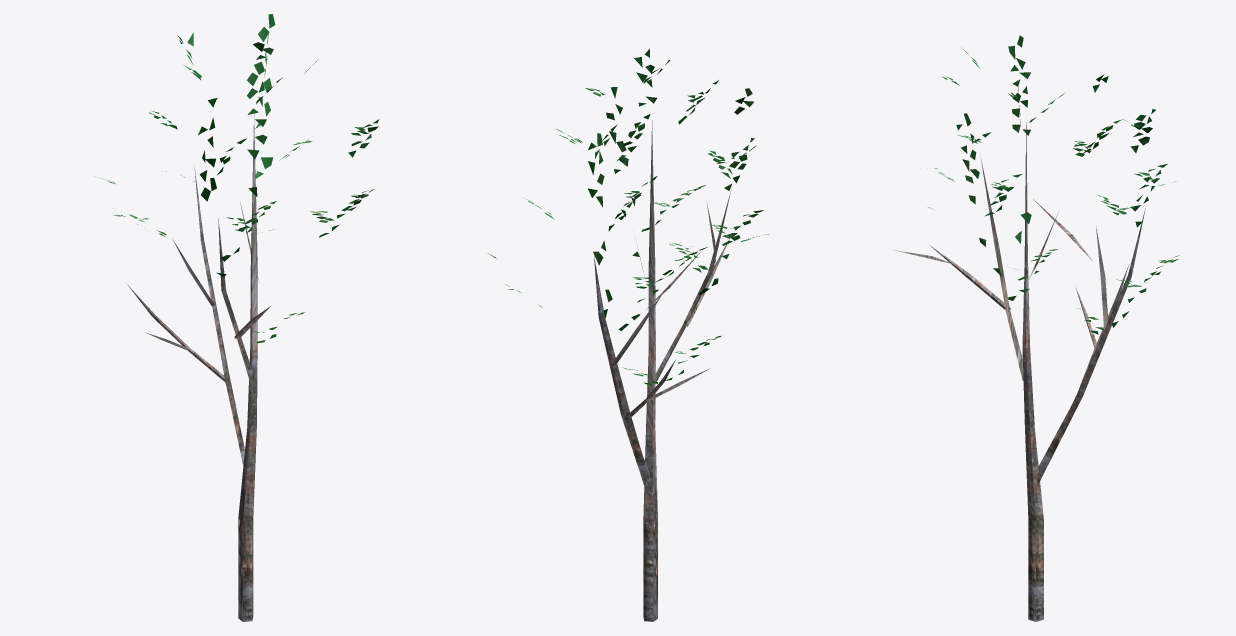
File: cay-lat.glb
3 views of the same model, side by side, from view 1: azimuth 30°, elevation 25°; view 2: azimuth 150°, elevation 25°; view 3: azimuth 270°, elevation 25° (orthographic). The views are drawn at different scales.
Parts seen in each view (by area): view 1: CayLat; view 2: CayLat; view 3: CayLat.
Boxes of the visible parts, x1,y1,x2,y2 form: CayLat: (102, 14, 379, 621); CayLat: (487, 49, 768, 621); CayLat: (893, 35, 1179, 621).
Size of the model in its own units: 2.2 by 3.72 by 1.97.
1 material, 1 textured.
